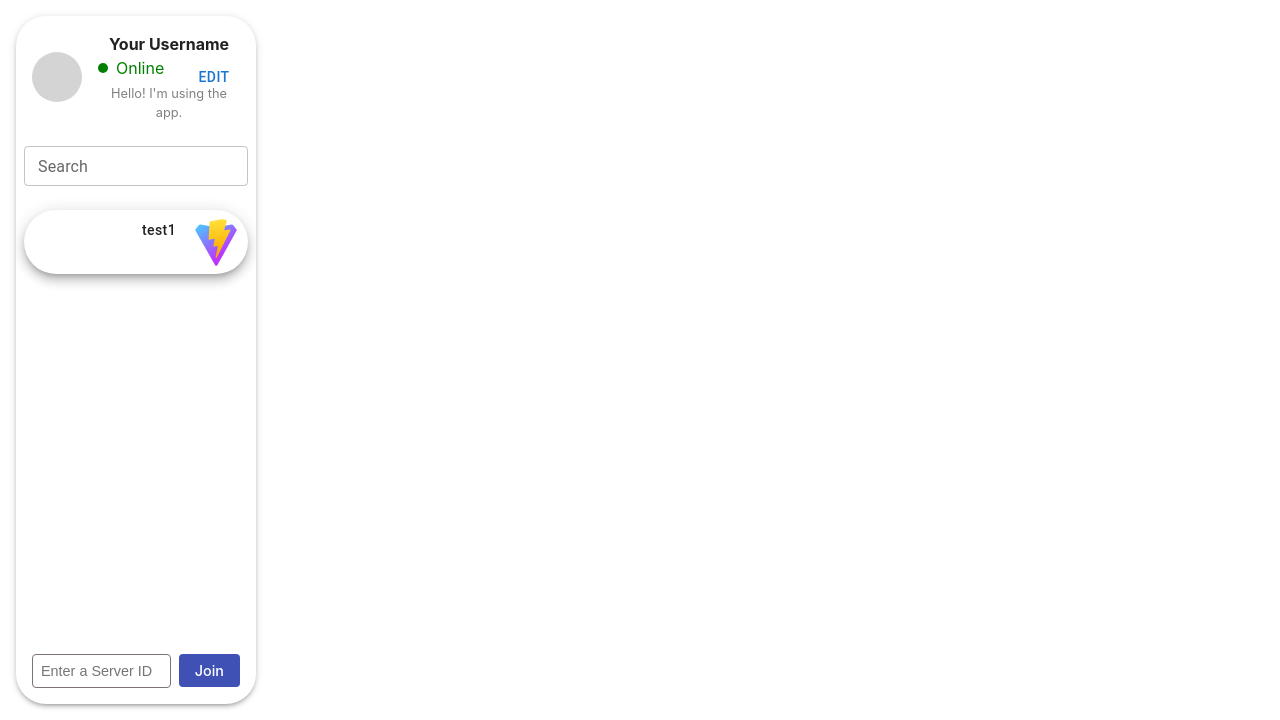
Test case: CustomUserBadge › shows the new username in the badge after saving
Click the button "Edit" at (214, 77), box [182, 59, 246, 95]
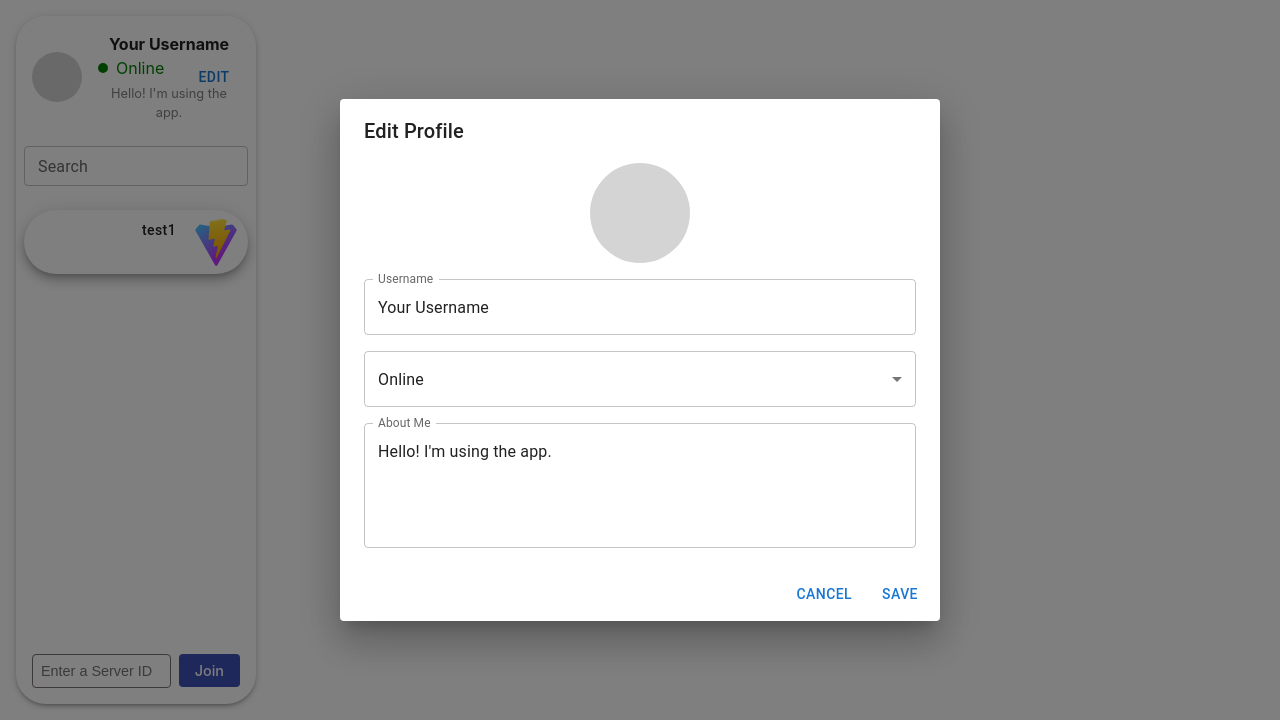
Replace the text in the field labelled "Username" with "UpdatedUser" at (640, 307), box [364, 279, 916, 335]
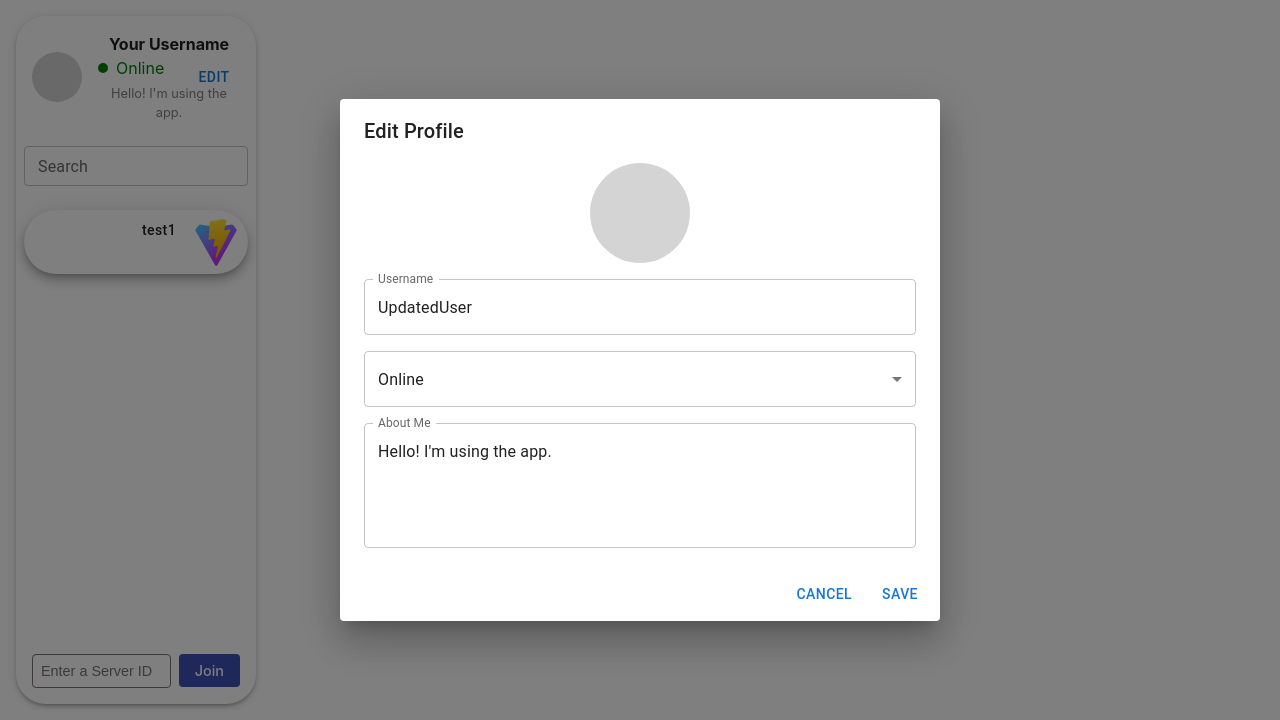
Click the button "Save" at (900, 595), box [868, 576, 932, 613]
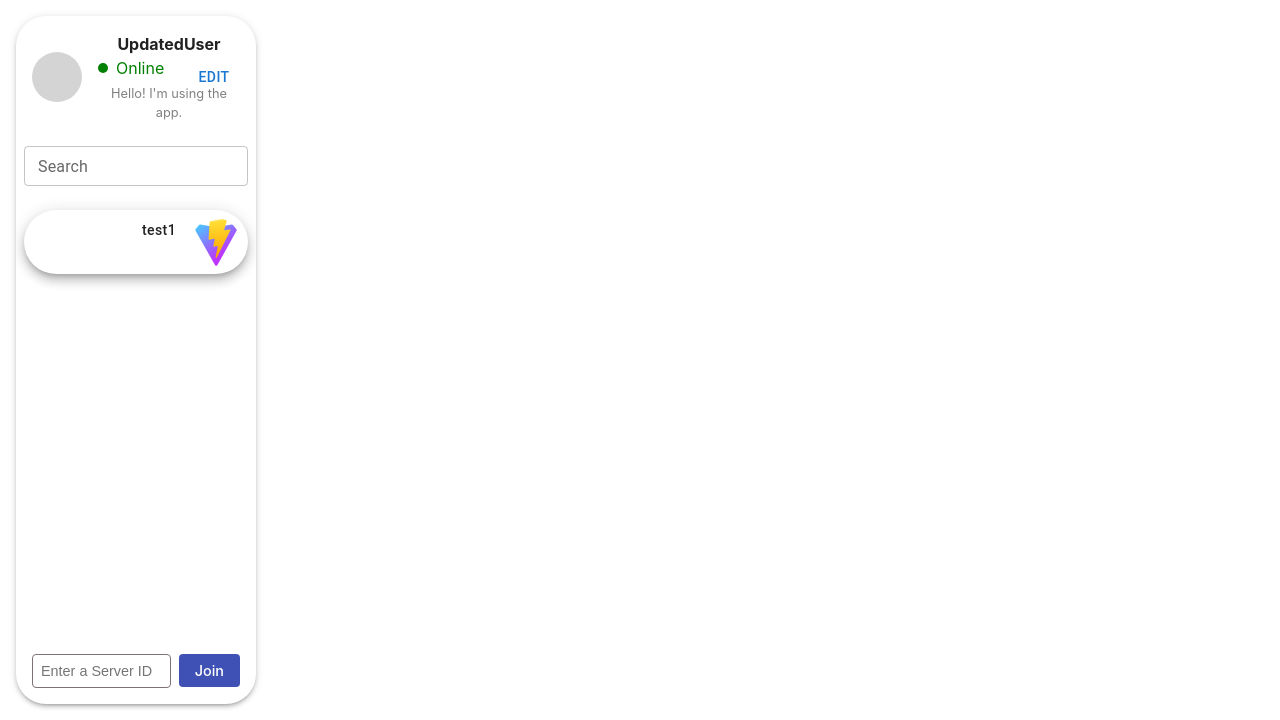
Expected: the text "UpdatedUser" is shown, [117, 34, 221, 54]
